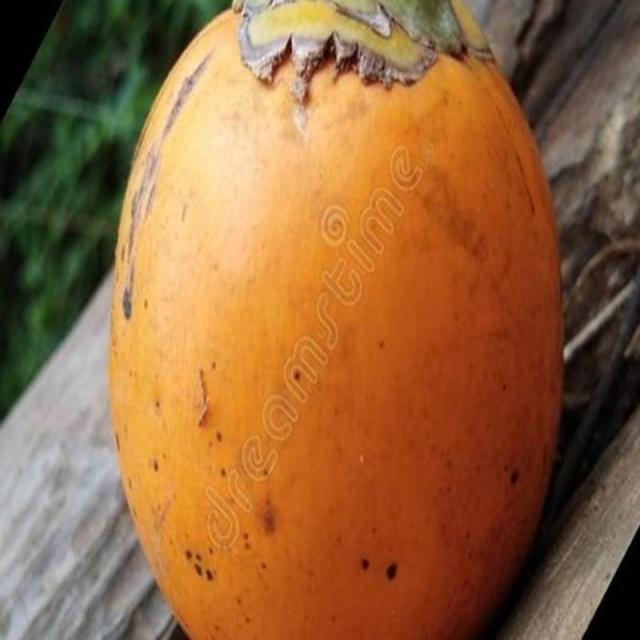good: (106, 0, 566, 639)
